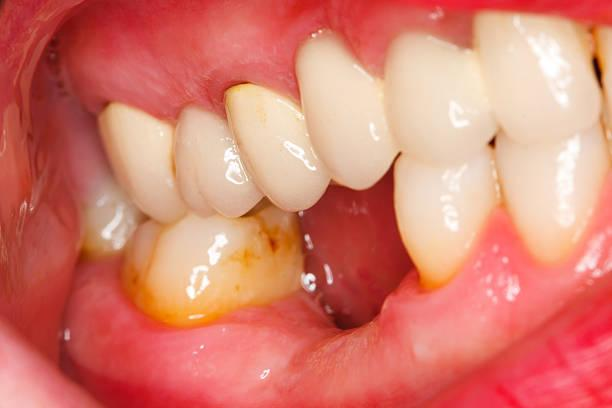Calculus: (110, 217, 309, 329)
Hypodontia: (303, 206, 423, 335)
